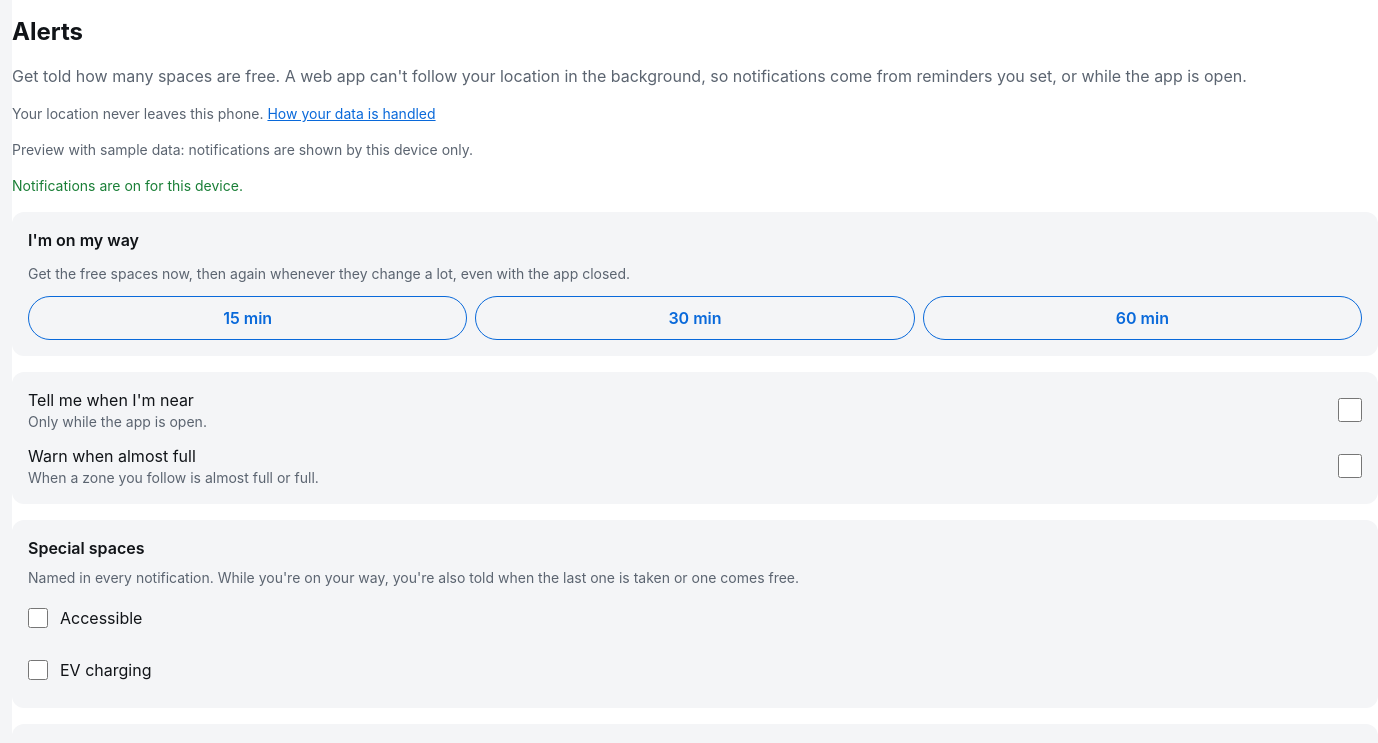
Test case: NotificationsScreen › when subscribed › asks for the location when 'near' is switched on, and stays off when refused
Click the switch labelled "Tell me when I'm near Only while the app is open." at [1350, 410], box top-left (1338, 398), bottom-right (1362, 422)
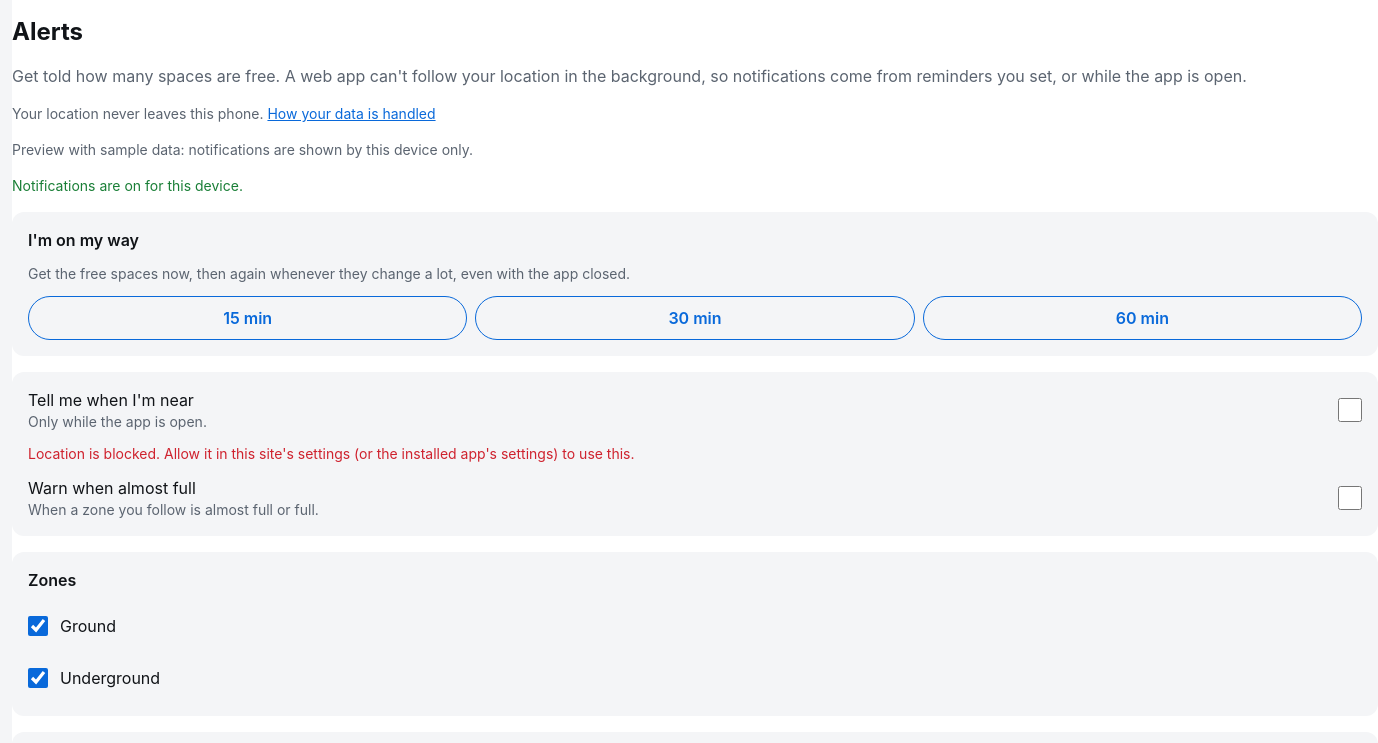
Expected: the text "Location is blocked" is shown, top-left (28, 445), bottom-right (634, 462)
